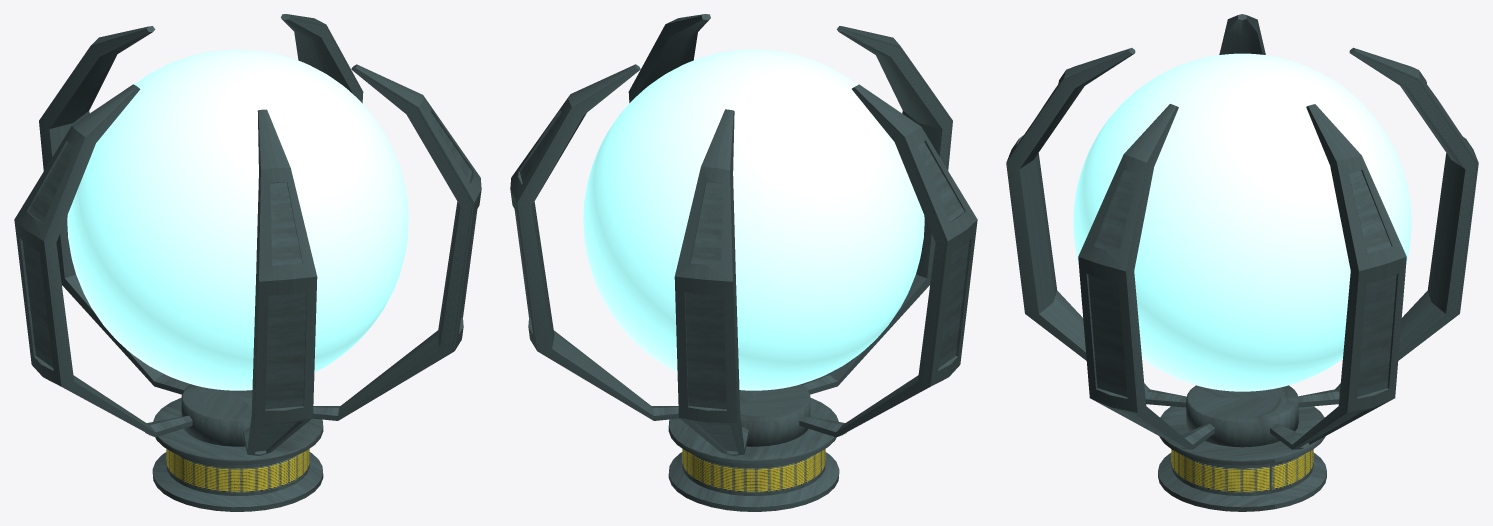
File: core.glb
3 renders of one model, left to right at view 1: azimuth 30°, elevation 25°; view 2: azimuth 150°, elevation 25°; view 3: azimuth 270°, elevation 25°, orthographic.
Visible parts, largest first — view 1: pelotita, brazo_2, brazo_1, base, brazo_3, brazo_5, base_brazo, brazo_4; view 2: pelotita, brazo_5, brazo_1, base, brazo_4, brazo_2, base_brazo, brazo_3; view 3: pelotita, brazo_4, brazo_3, brazo_5, brazo_2, base, base_brazo, brazo_1.
Part boxes in pixels (<box>): pelotita: <box>67,49,408,390</box>; brazo_2: <box>243,109,317,455</box>; brazo_1: <box>14,84,192,437</box>; base: <box>152,397,323,511</box>; brazo_3: <box>312,64,481,420</box>; brazo_5: <box>39,26,190,394</box>; base_brazo: <box>181,384,252,446</box>; brazo_4: <box>281,14,363,103</box>; pelotita: <box>583,49,924,390</box>; brazo_5: <box>674,109,748,455</box>; brazo_1: <box>799,84,977,437</box>; base: <box>668,397,839,511</box>; brazo_4: <box>510,64,679,420</box>; brazo_2: <box>801,26,952,394</box>; base_brazo: <box>739,384,810,446</box>; brazo_3: <box>628,14,710,102</box>; pelotita: <box>1073,53,1411,391</box>; brazo_4: <box>1270,104,1406,449</box>; brazo_3: <box>1078,104,1214,449</box>; brazo_5: <box>1298,47,1478,407</box>; brazo_2: <box>1006,48,1186,407</box>; base: <box>1158,406,1326,511</box>; base_brazo: <box>1186,385,1298,447</box>; brazo_1: <box>1219,14,1265,54</box>.
Size of the model in its own units: 5.36 by 5.37 by 5.59.
Materials: 3 (2 with a texture image).
